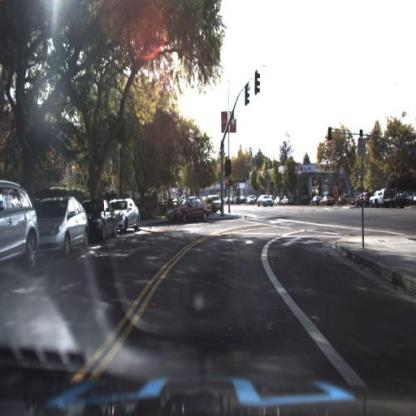car: (1, 180, 43, 278), (41, 195, 91, 263), (164, 191, 213, 228), (87, 197, 117, 246), (116, 194, 144, 236), (371, 187, 406, 211), (320, 194, 338, 212), (336, 188, 354, 206), (255, 195, 274, 211), (209, 192, 225, 210), (309, 194, 323, 212), (368, 185, 378, 208), (399, 187, 414, 200)
